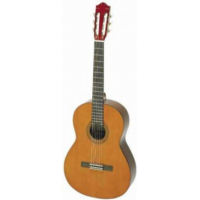guitar: (63, 2, 136, 198)
